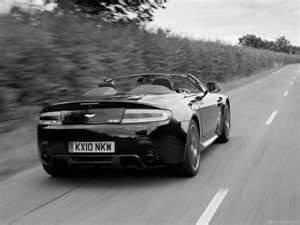car: (39, 74, 233, 180)
